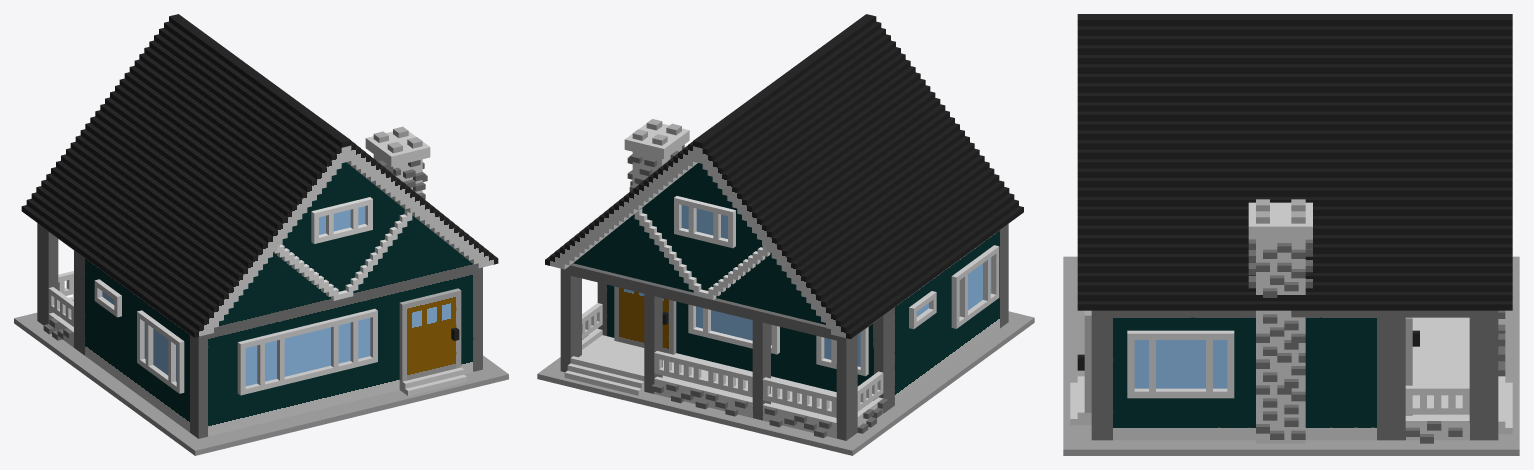
Rendered from obj_house3c.fbx.
3 views of the same model, side by side, from view 1: azimuth 30°, elevation 25°; view 2: azimuth 150°, elevation 25°; view 3: azimuth 270°, elevation 25° (orthographic). The views are drawn at different scales.
Visible parts, largest first — view 1: obj_house3c; view 2: obj_house3c; view 3: obj_house3c.
Part boxes in pixels (left/top/right/bottom): obj_house3c: left=14, top=14, right=508, bottom=455; obj_house3c: left=537, top=14, right=1034, bottom=455; obj_house3c: left=1063, top=14, right=1519, bottom=455.
Size of the model in its own units: 6.4 by 6.4 by 5.3.
Materials: 1 (1 with a texture image).
